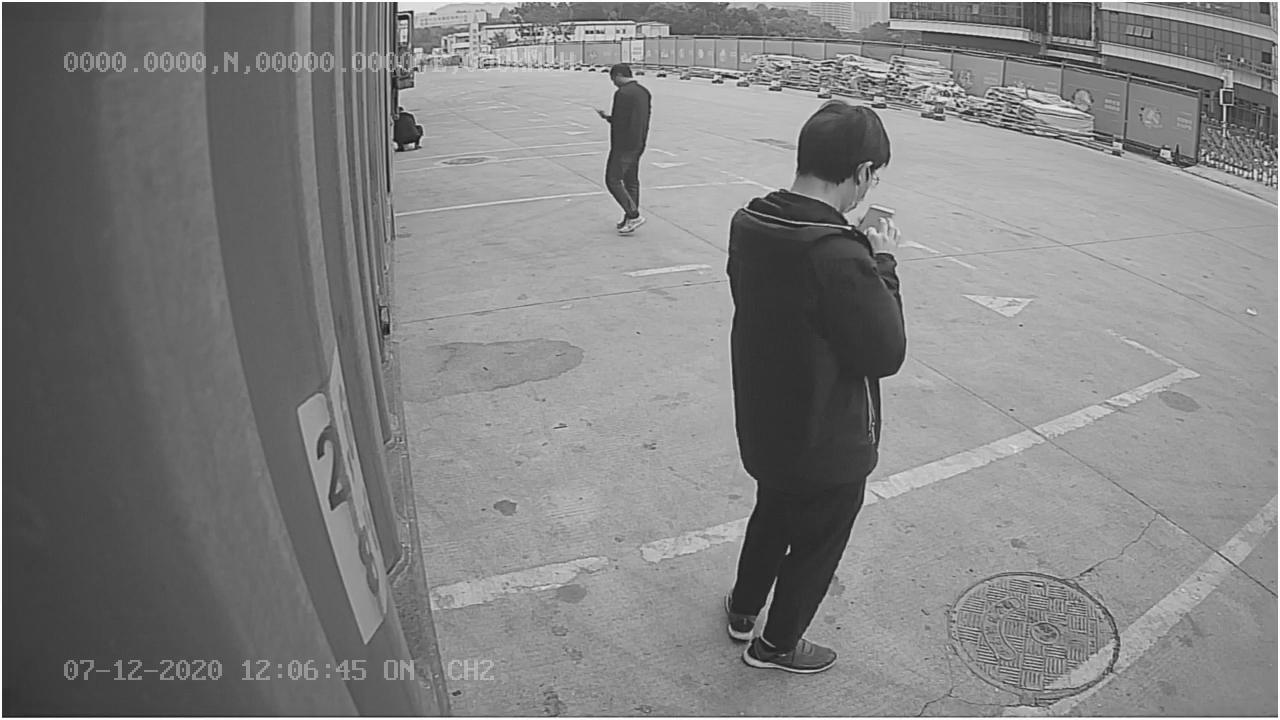person: (720, 91, 908, 673)
